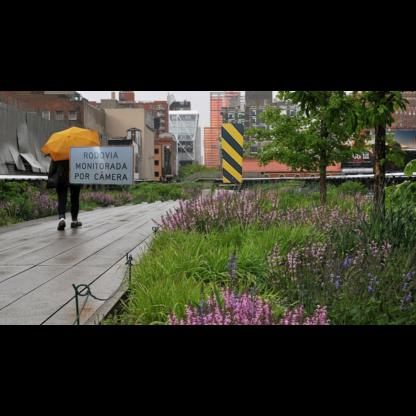I-E: (69, 145, 134, 186)
O-MP: (221, 123, 244, 183)
